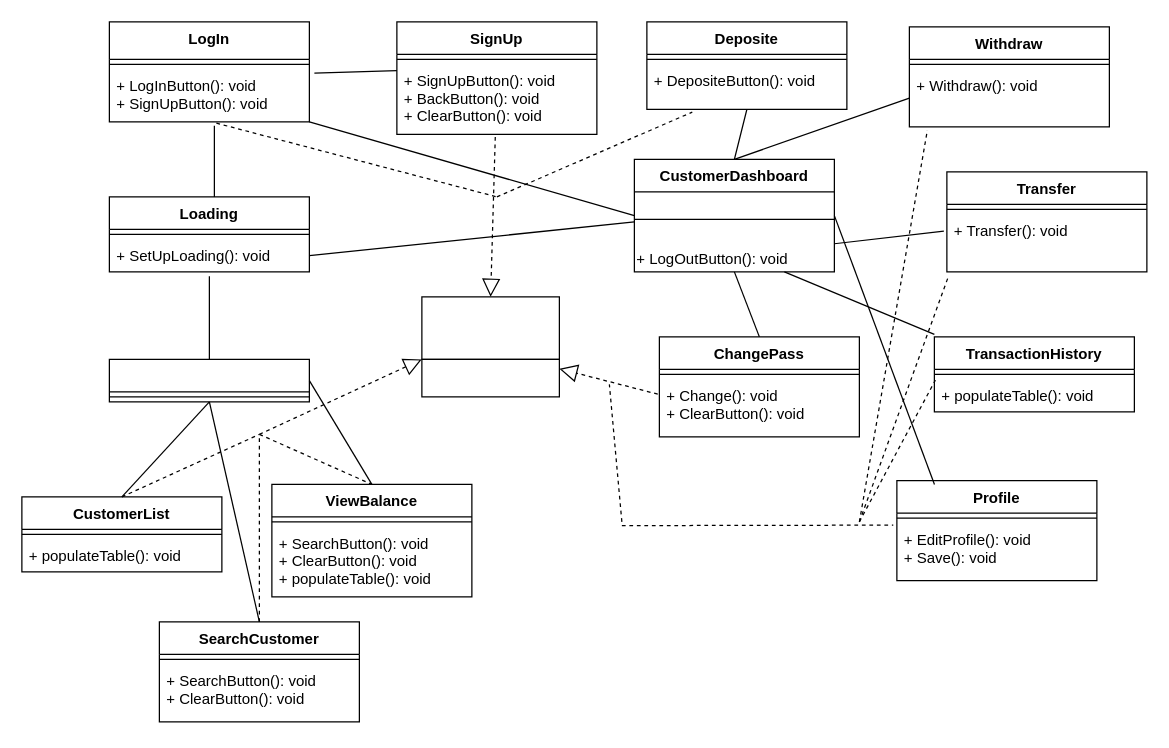
The diagram is 1169 pixels wide and 748 high, and some of its shapes have lost their labels. The shapes that lost their labels are listed below. From the top down, each one's centre as x and y in pixels, then its label:
(x=490, y=327): «interface» javaconnect
(x=208, y=380): AdminDashboard
(x=490, y=377): + connectDb(): Conection
